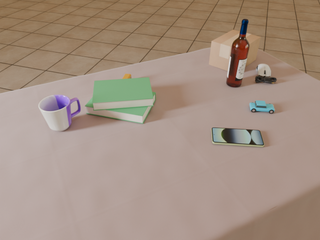book: (85, 92, 156, 124), (92, 77, 153, 110)
bottle: (226, 19, 250, 87)
box: (209, 30, 261, 71)
cup: (39, 95, 81, 131)
mouse: (256, 64, 271, 78)
phone: (211, 128, 264, 147)
toy_car: (249, 101, 275, 114)
